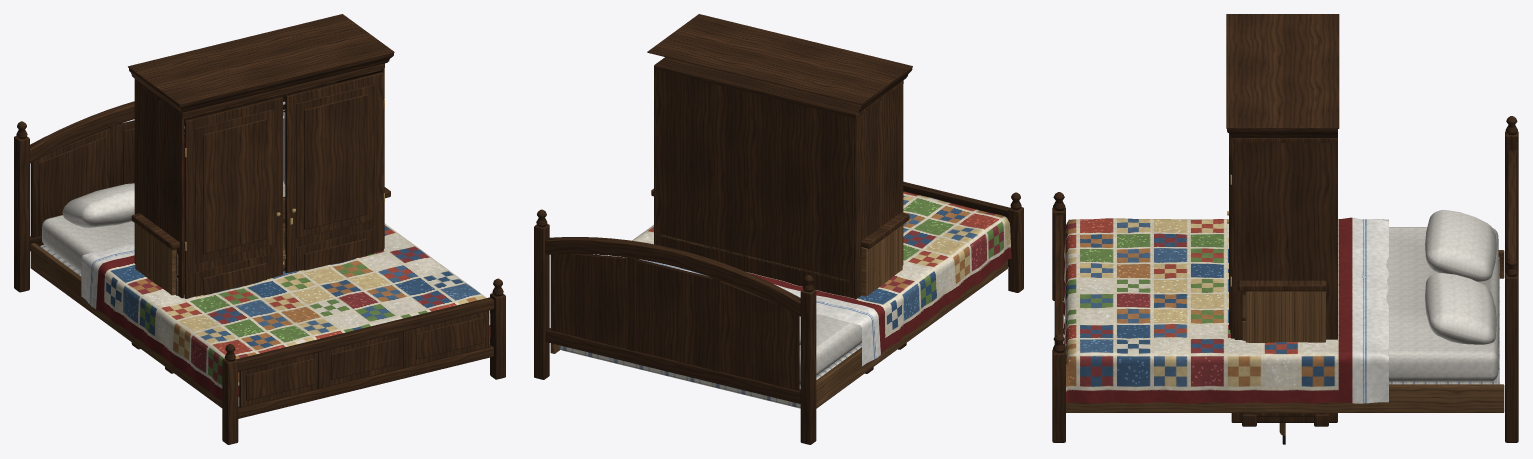
Rendered from props_bedroom.glb.
3 renders of one model, left to right at view 1: azimuth 30°, elevation 25°; view 2: azimuth 150°, elevation 25°; view 3: azimuth 270°, elevation 25°, orthographic. The views are drawn at different scales.
Parts seen in each view (by area): view 1: Bed, Wardrobe, WardrobeDoorR, WardrobeDoorL, Dresser; view 2: Bed, Wardrobe, Dresser; view 3: Bed, Wardrobe, Dresser, WardrobeDoorR.
Boxes of the visible parts, x1,y1,x2,y2 form: Bed: (14, 101, 505, 444); Wardrobe: (128, 14, 394, 298); WardrobeDoorR: (285, 72, 384, 273); WardrobeDoorL: (184, 96, 282, 298); Dresser: (131, 187, 390, 373); Bed: (534, 181, 1023, 444); Wardrobe: (647, 14, 912, 299); Dresser: (651, 188, 909, 373); Bed: (1052, 116, 1518, 442); Wardrobe: (1226, 14, 1339, 422); Dresser: (1238, 280, 1328, 426); WardrobeDoorR: (1227, 133, 1234, 338).
Size of the model in its own units: 2.33 by 2.62 by 3.11.
42 materials, 32 textured.
